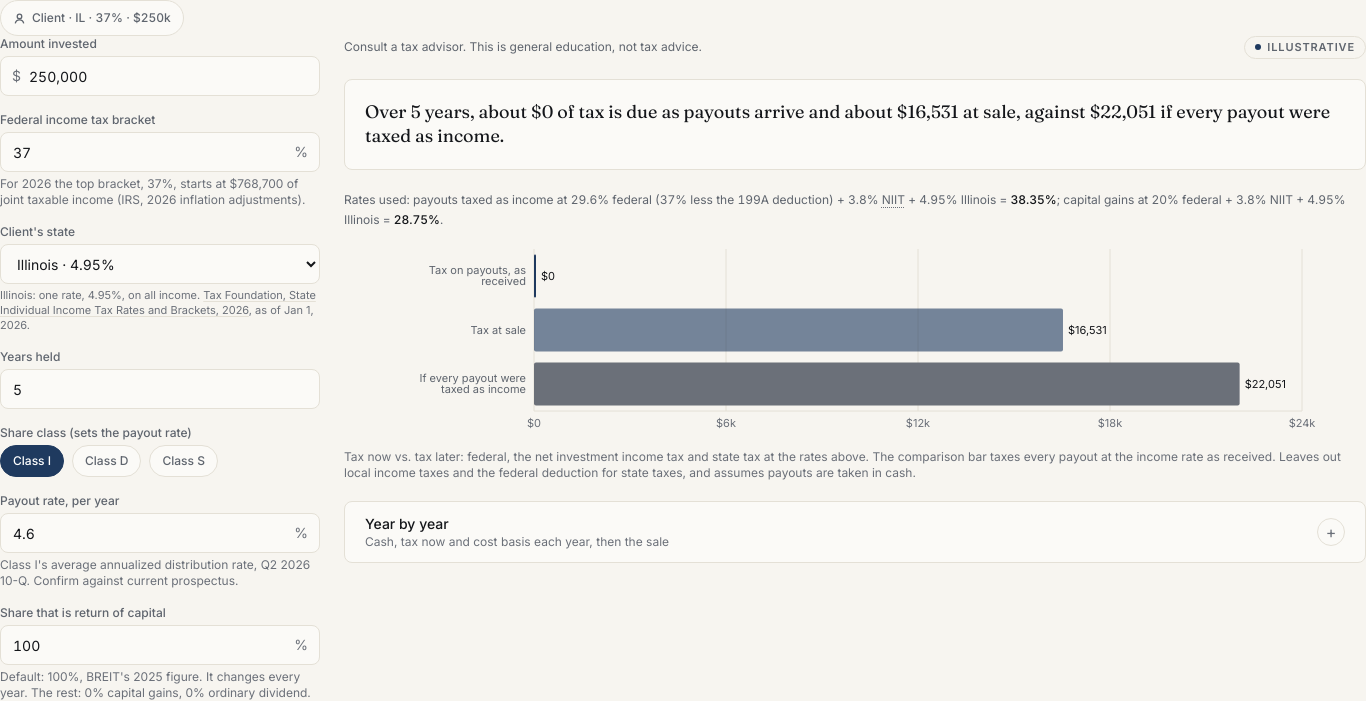
Test: client profile, set once › a change in the Client panel reaches the tax calculator
Click the button "Client · IL · 37% · $250k": (92, 18) [0,0,184,36]
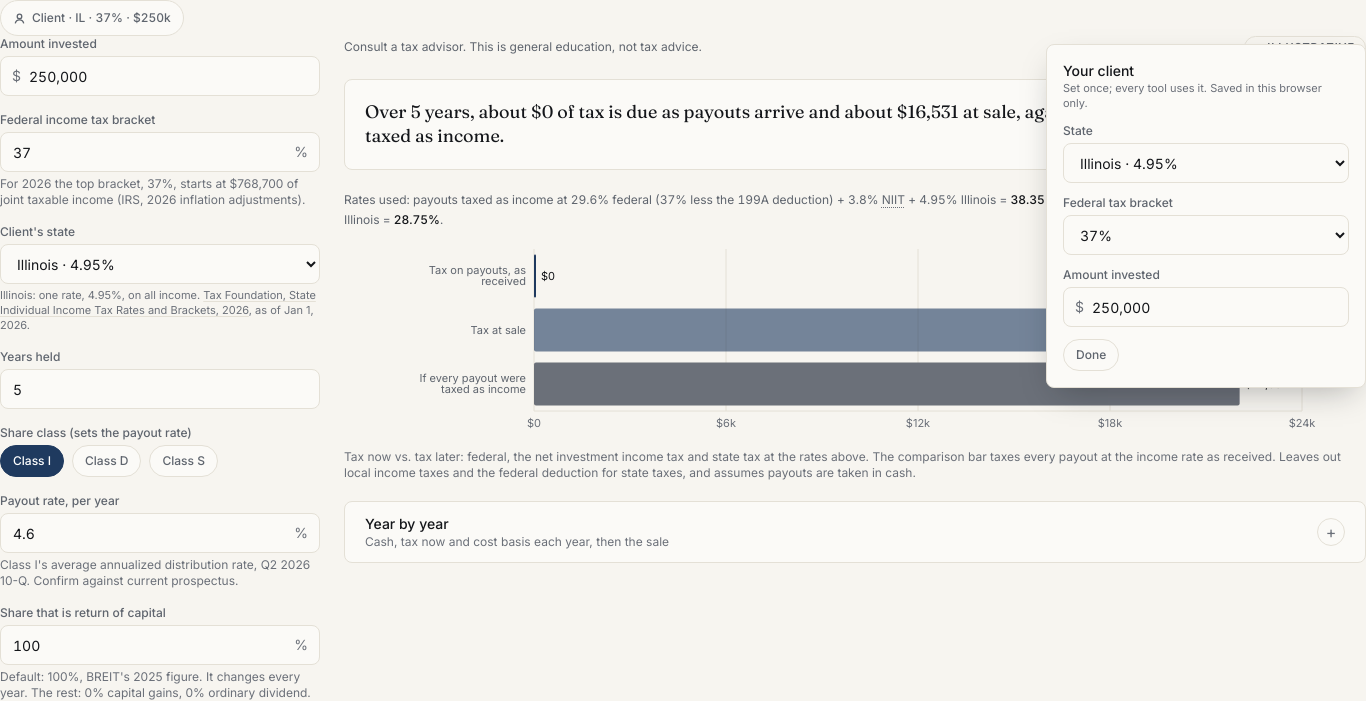
Select "New York · 10.9%" in the dropdown labelled "State": (1206, 163) [1063,143,1349,183]
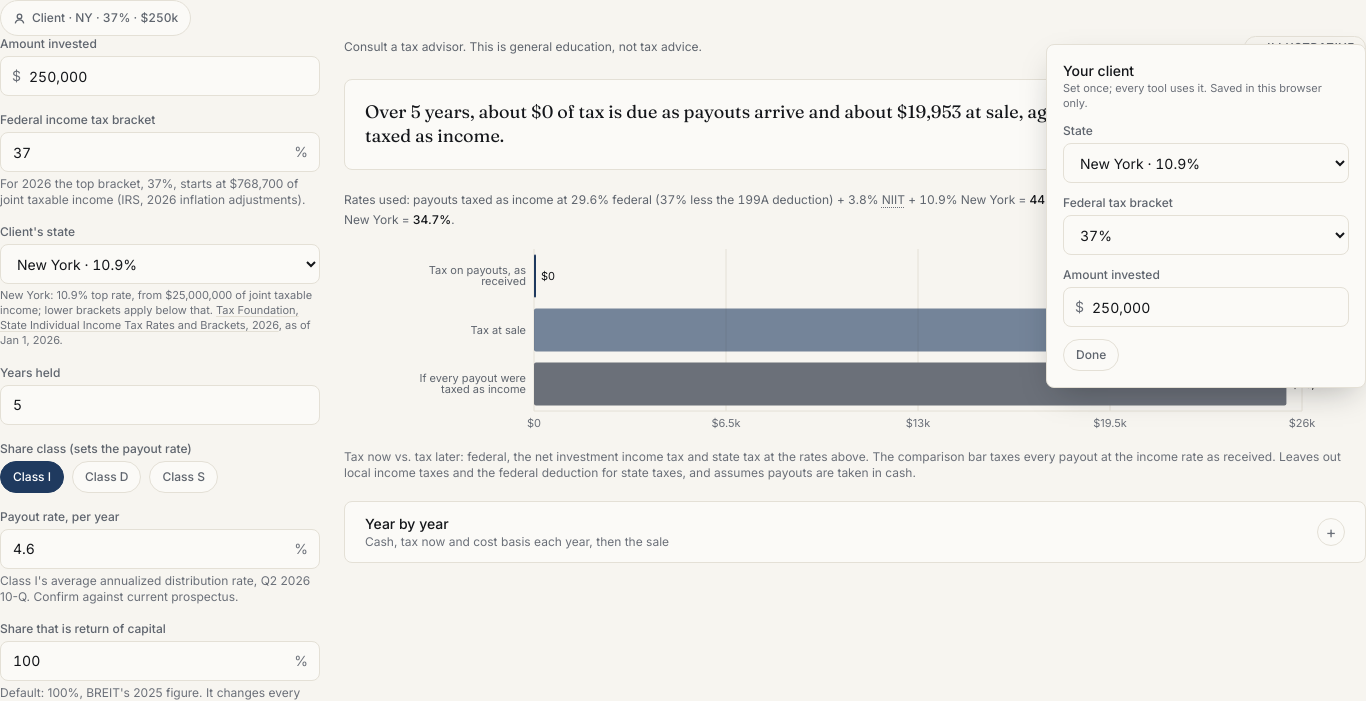
Select "32%" in the dropdown labelled "Federal tax bracket": (1206, 235) [1063,215,1349,255]
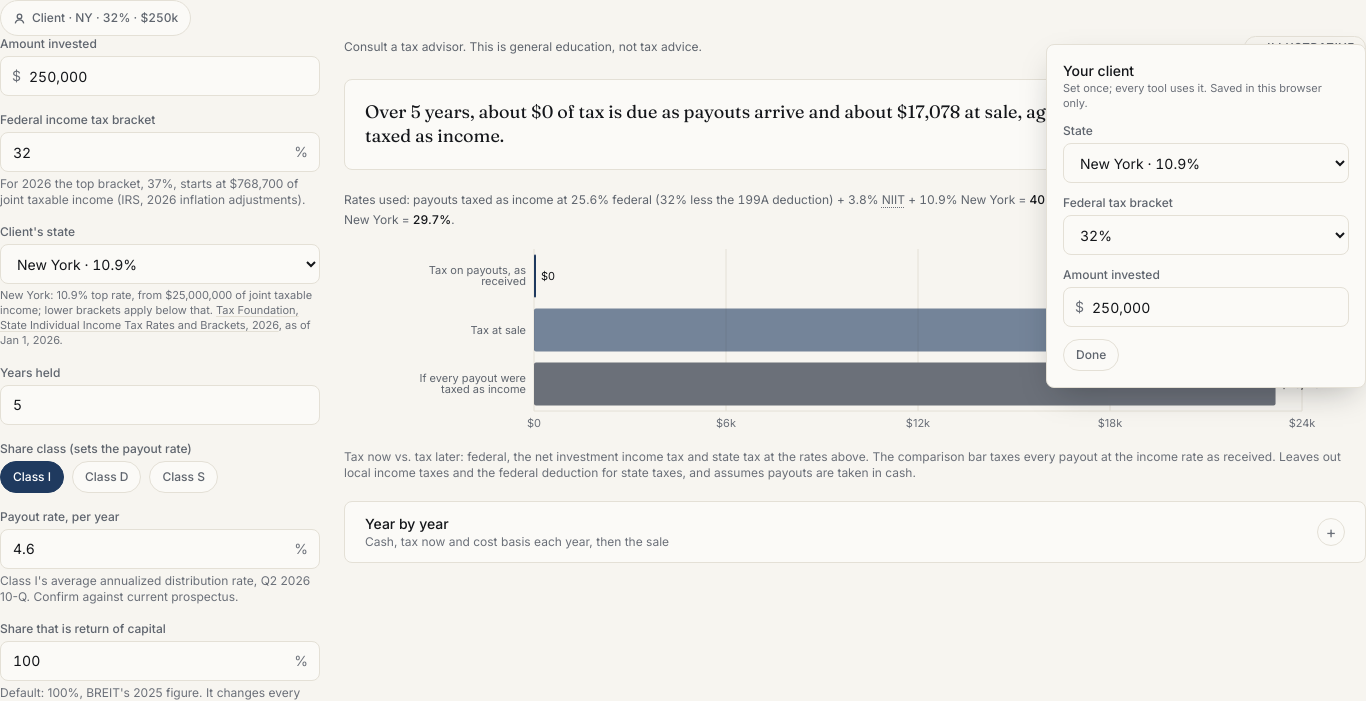
expect the element that starts with "Rates used: payouts taxed as income at" shows "10.9% New York": met, box [905,192,1015,207]
expect the element that starts with "Rates used: payouts taxed as income at" shows "25.6% federal (32% less the 199A deduction)": met, box [571,192,882,207]
